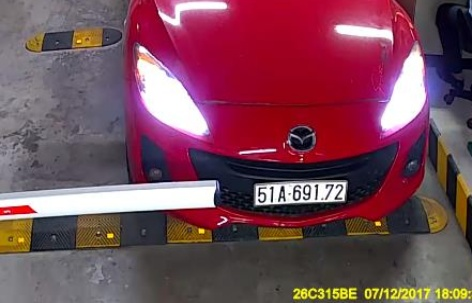plate: (248, 178, 354, 215)
